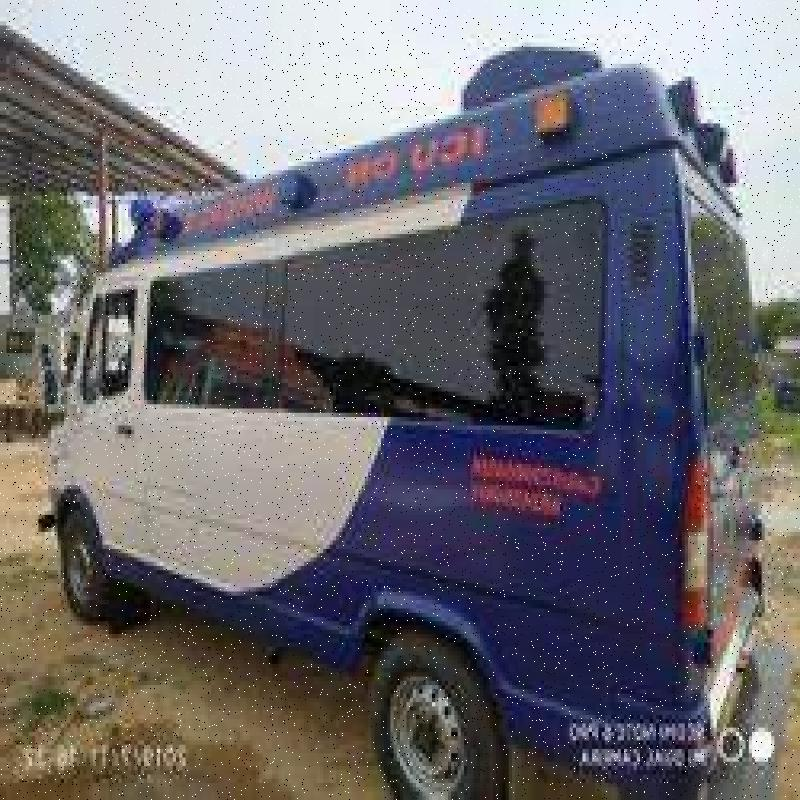AmbulanceSiren: (112, 190, 194, 253)
